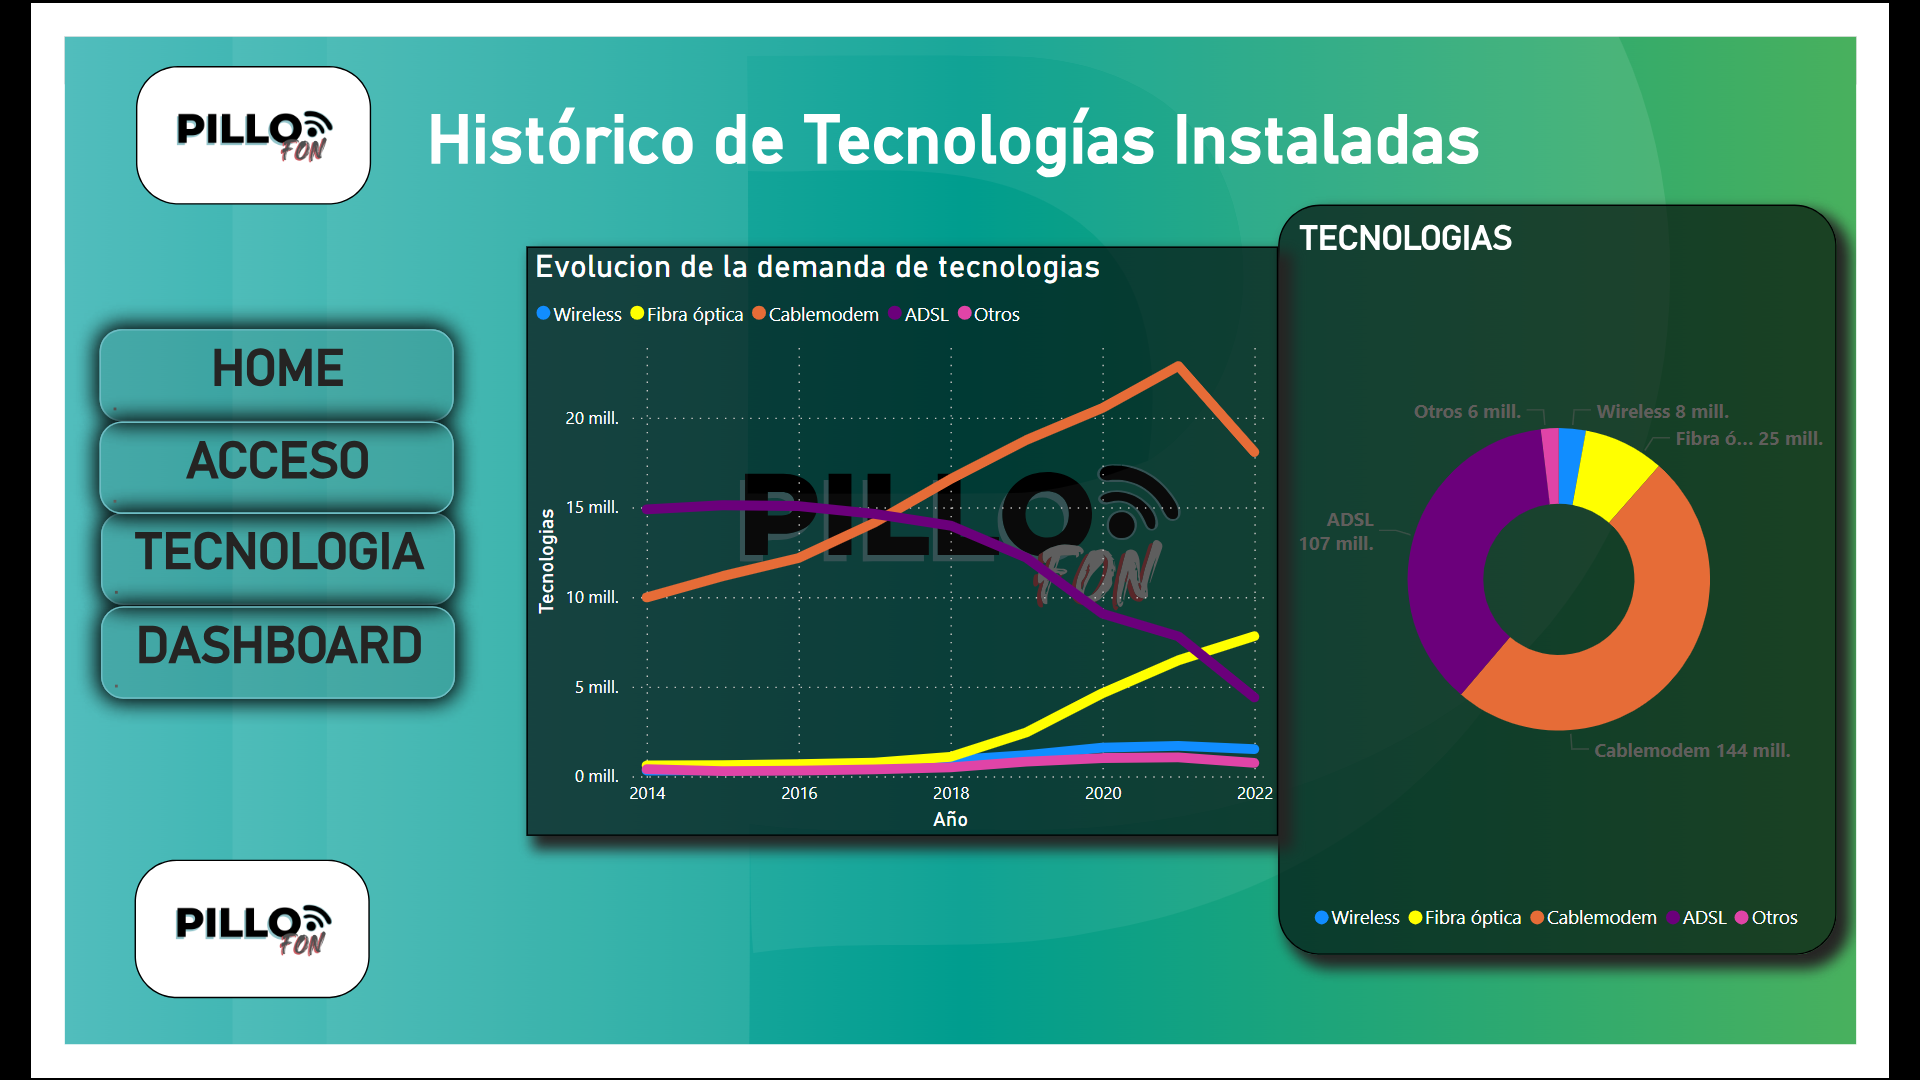

This screenshot's page, from the dashboard's own definition file:
{"tool":"powerbi","page":{"name":"Página 3","canvas":[1280,720],"ordinal":2},"visuals":[{"type":"image","box":[50.1,588,167.5,99],"z":0},{"type":"image","box":[51.3,20.8,167.5,99],"z":1000},{"type":"donutChart","title":"TECNOLOGIAS","fields":{"Y":["Sum(tecnologia.Wireless)","Sum(tecnologia.Fibra óptica)","Sum(tecnologia.Cablemodem)","Sum(tecnologia.ADSL)","Sum(tecnologia.Otros)"]},"box":[866.7,119.8,399.7,536.6],"z":2000},{"type":"lineChart","title":"Evolucion de la demanda de tecnologias","fields":{"Category":["tecnologia.Año Jerarquía.Año","tecnologia.Año Jerarquía.Trimestre"],"Y":["Sum(tecnologia.Wireless)","Sum(tecnologia.Fibra óptica)","Sum(tecnologia.Cablemodem)","Sum(tecnologia.ADSL)","Sum(tecnologia.Otros)"]},"box":[330.1,150.4,536.6,420.5],"z":3000},{"type":"textbox","box":[254.3,40.3,772.6,110],"z":4000},{"type":"actionButton","title":"TECNOLOGIA","box":[26.1,340.3,253,66],"z":4001},{"type":"actionButton","title":"DASHBOARD","box":[26.1,406.8,253,66],"z":4002},{"type":"actionButton","title":"HOME","box":[25.2,209.3,253,66],"z":4003},{"type":"actionButton","title":"ACCESO","box":[25.2,275.3,253,66],"z":4004}]}

Visuals, with their boxes in screenshot pixels (x1, y1, x2, y2), scaled from the page's 1280x720 canvas onto the 1920x1080 screenshot:
image: box=[75, 882, 326, 1030]
image: box=[77, 31, 328, 180]
"TECNOLOGIAS" donutChart: box=[1300, 180, 1900, 985]
"Evolucion de la demanda de tecnologias" lineChart: box=[495, 226, 1300, 856]
textbox: box=[381, 60, 1540, 225]
"TECNOLOGIA" actionButton: box=[39, 510, 419, 609]
"DASHBOARD" actionButton: box=[39, 610, 419, 709]
"HOME" actionButton: box=[38, 314, 417, 413]
"ACCESO" actionButton: box=[38, 413, 417, 512]
